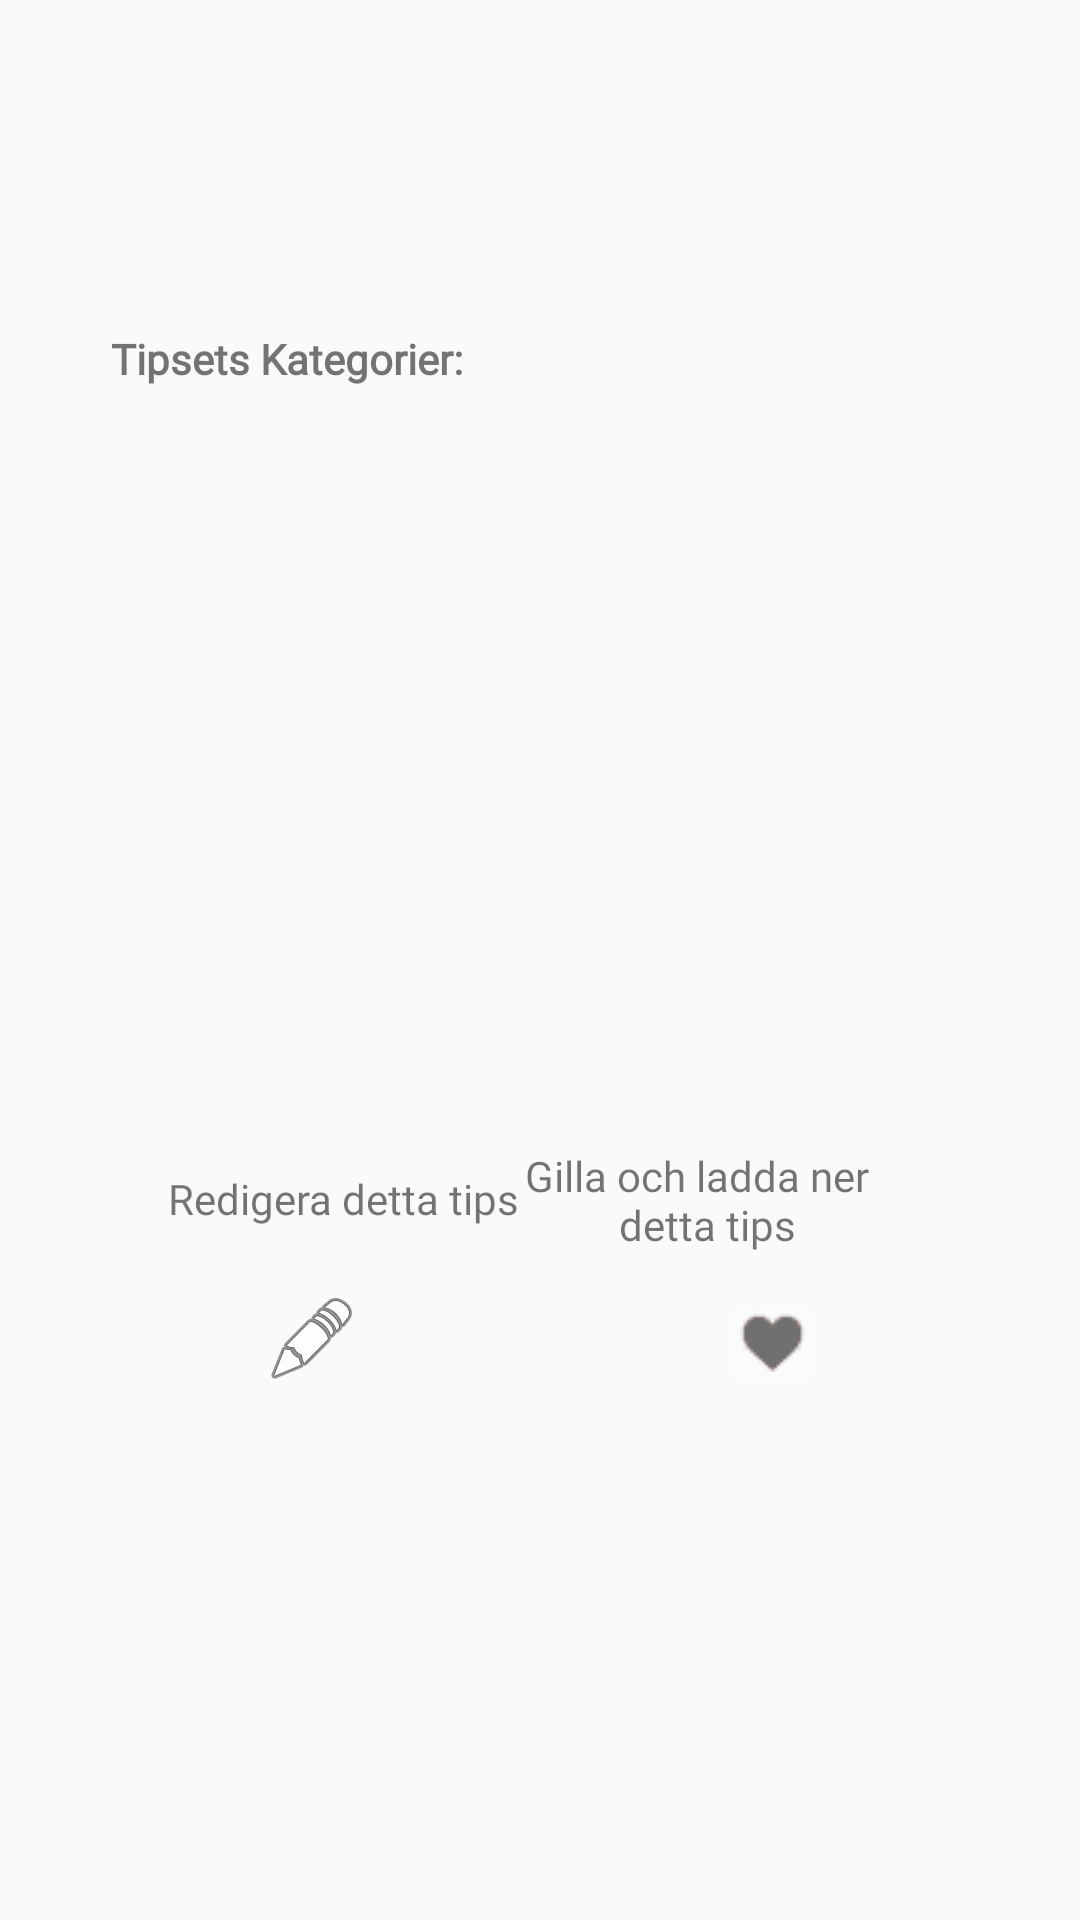

Icon bounding boxes for this 1080x1920 phone screenshot, format [left=x1, top=y1, right=x2, bottom=y2]:
edit: [left=271, top=1298, right=352, bottom=1379]
liked: [left=742, top=1315, right=803, bottom=1372]
